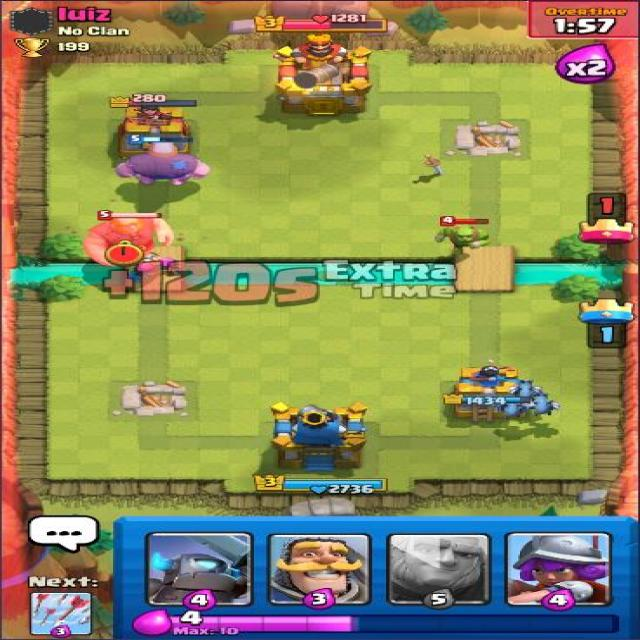Enemy-Brawler: (431, 215, 496, 255)
Enemy-Giant: (82, 209, 177, 271)
Player-Archer: (125, 255, 158, 279), (150, 255, 182, 274)
Player-Giant: (111, 134, 212, 188)
Player-Minion: (522, 393, 562, 417), (494, 396, 532, 421), (508, 378, 544, 401)
